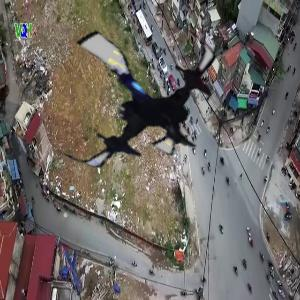drone: (42, 5, 227, 190)
